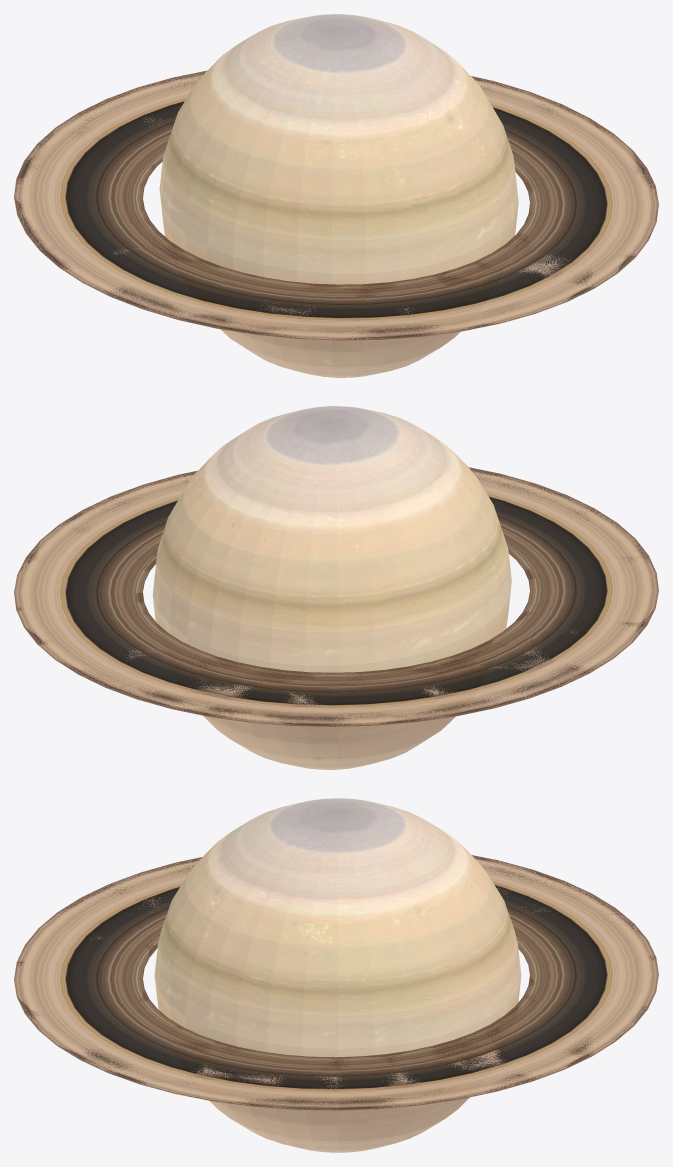
The model's file is saturn.glb.
The picture shows the model from 3 angles, top to bottom: view 1: azimuth 30°, elevation 25°; view 2: azimuth 150°, elevation 25°; view 3: azimuth 270°, elevation 25°; orthographic projection.
Visible parts, largest first — view 1: Object_12, Object_16; view 2: Object_12, Object_16; view 3: Object_12, Object_16.
Boxes of the visible parts, bbox=[...] form: Object_12: bbox=[159, 14, 518, 377]; Object_16: bbox=[14, 70, 658, 340]; Object_12: bbox=[152, 406, 511, 769]; Object_16: bbox=[14, 467, 658, 726]; Object_12: bbox=[154, 798, 521, 1152]; Object_16: bbox=[14, 855, 658, 1110].
Bounding box in the file's own units: 47.04 × 26.67 × 48.27.
2 materials, 2 textured.
